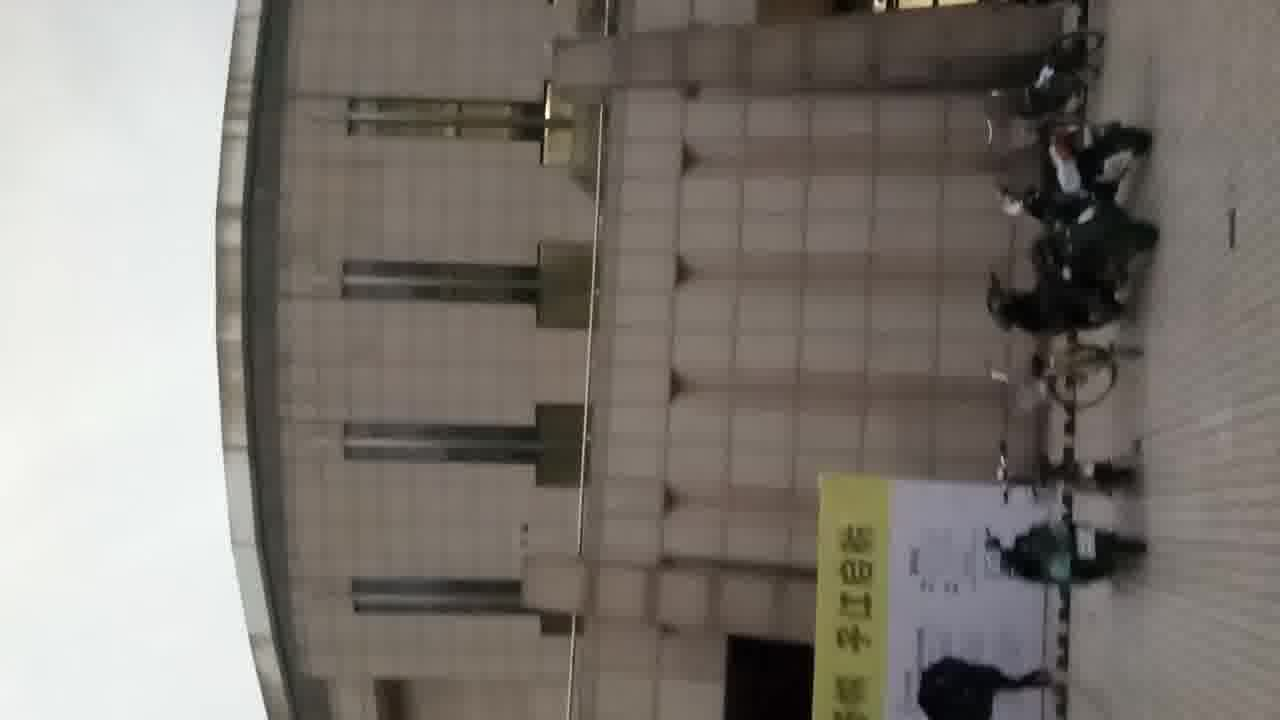zhongtiww: (208, 14, 1038, 720)
